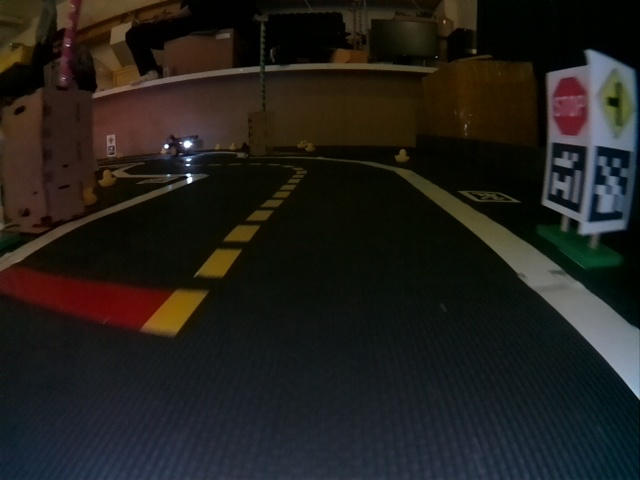Duckie: (99, 170, 116, 186), (82, 187, 97, 204), (395, 149, 408, 159), (214, 142, 222, 150), (297, 141, 305, 148), (229, 143, 236, 149), (305, 143, 312, 148)
Duckiebot: (165, 135, 198, 156)
Intersection sign: (591, 54, 635, 139), (106, 135, 114, 145)
QR code: (587, 149, 634, 233), (543, 142, 581, 215), (460, 191, 519, 202), (106, 146, 116, 155)
Stop sign: (548, 75, 585, 135)
